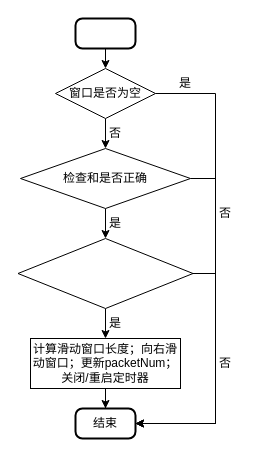
This 272x456 diagram has some shape labels left out. Here are the shapes that lost their labels. From the top down, the centre of each, then its label:
At point 105,33: "开始".
At point 105,273: "分组序号是否大于等于firstWaitingAckSeqNum".
